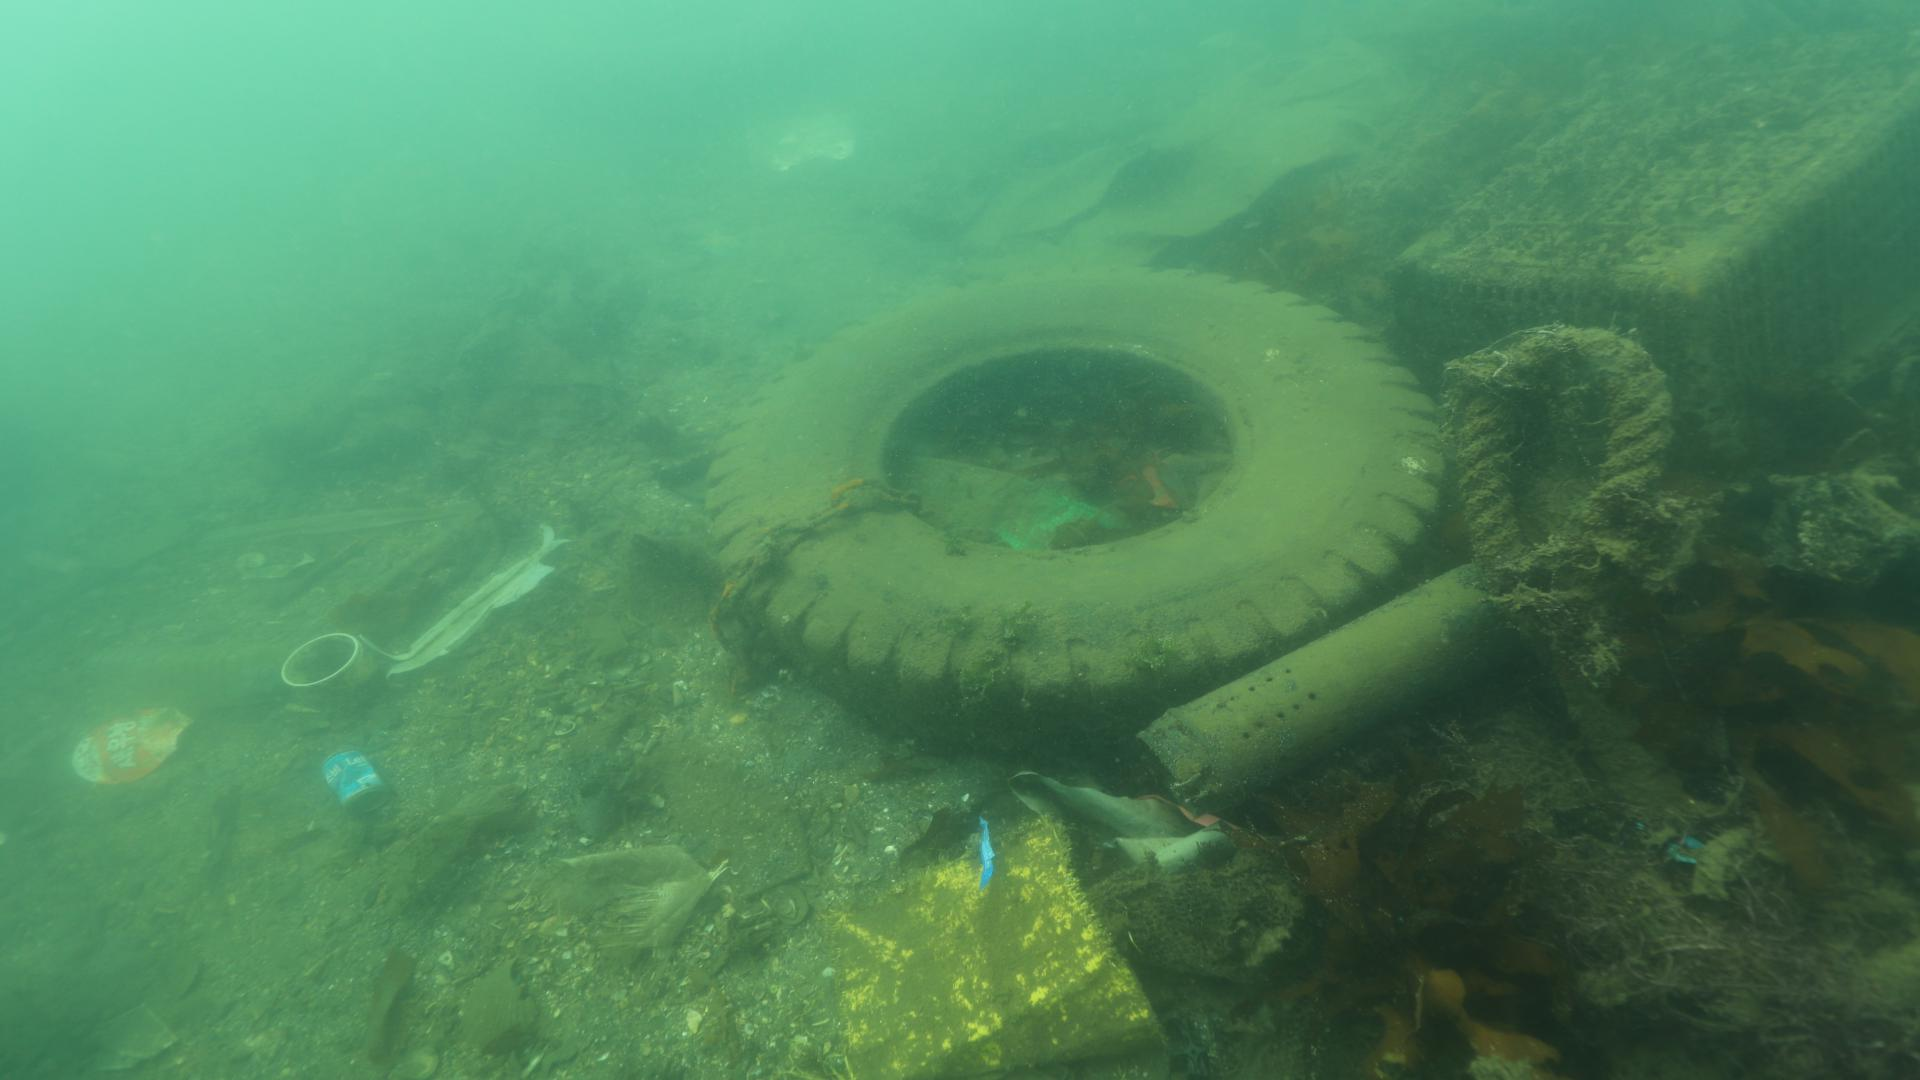eel fish trap: (1131, 563, 1487, 818)
rope: (1451, 322, 1675, 583)
tire: (702, 261, 1447, 749)
